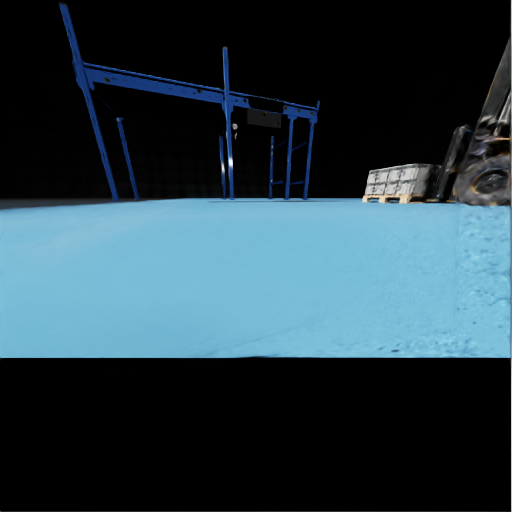transportation_area: (385, 180, 435, 194), (389, 196, 400, 197), (402, 165, 403, 168)
